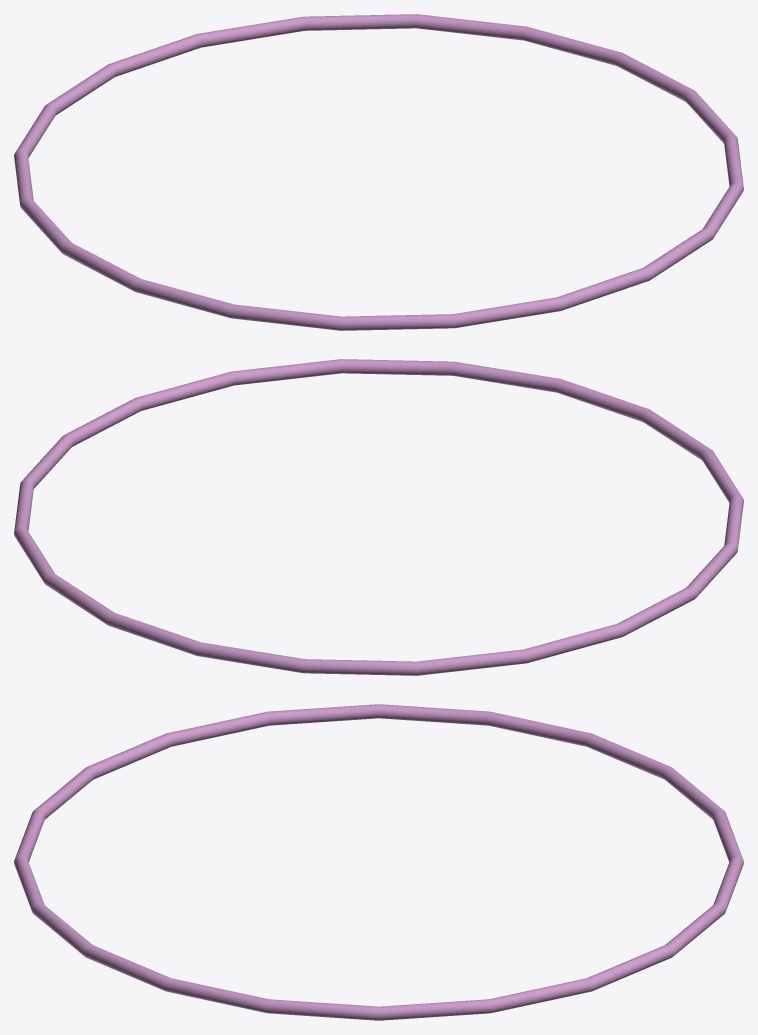
Rendered from hulaHoop.fbx.
The picture shows the model from 3 angles, top to bottom: view 1: azimuth 30°, elevation 25°; view 2: azimuth 150°, elevation 25°; view 3: azimuth 270°, elevation 25°; orthographic projection.
Visible parts, largest first — view 1: hulaHoop; view 2: hulaHoop; view 3: hulaHoop.
Part boxes in pixels (box(x1,y1,x2,y2)): hulaHoop: box(14, 14, 743, 330); hulaHoop: box(14, 359, 743, 675); hulaHoop: box(14, 704, 743, 1020).
Bounding box in the file's own units: 12 × 0.2354 × 12.
